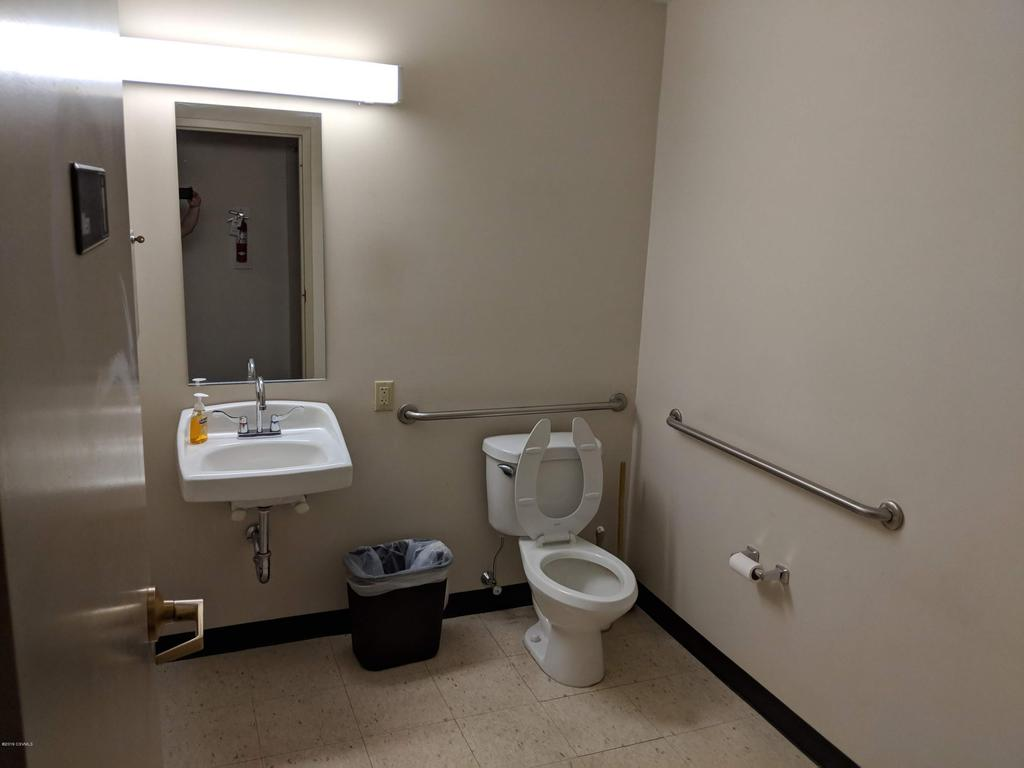dispenser: (727, 543, 791, 591), (188, 389, 213, 444)
door_handle: (142, 579, 208, 670)
faucet: (212, 376, 306, 438)
restroom_assist_bar: (664, 407, 908, 531), (396, 393, 630, 426)
sink: (176, 399, 356, 586)
toilet: (481, 418, 643, 690)
toilet_handle: (496, 462, 518, 482)
waste_bin: (344, 539, 455, 673)
